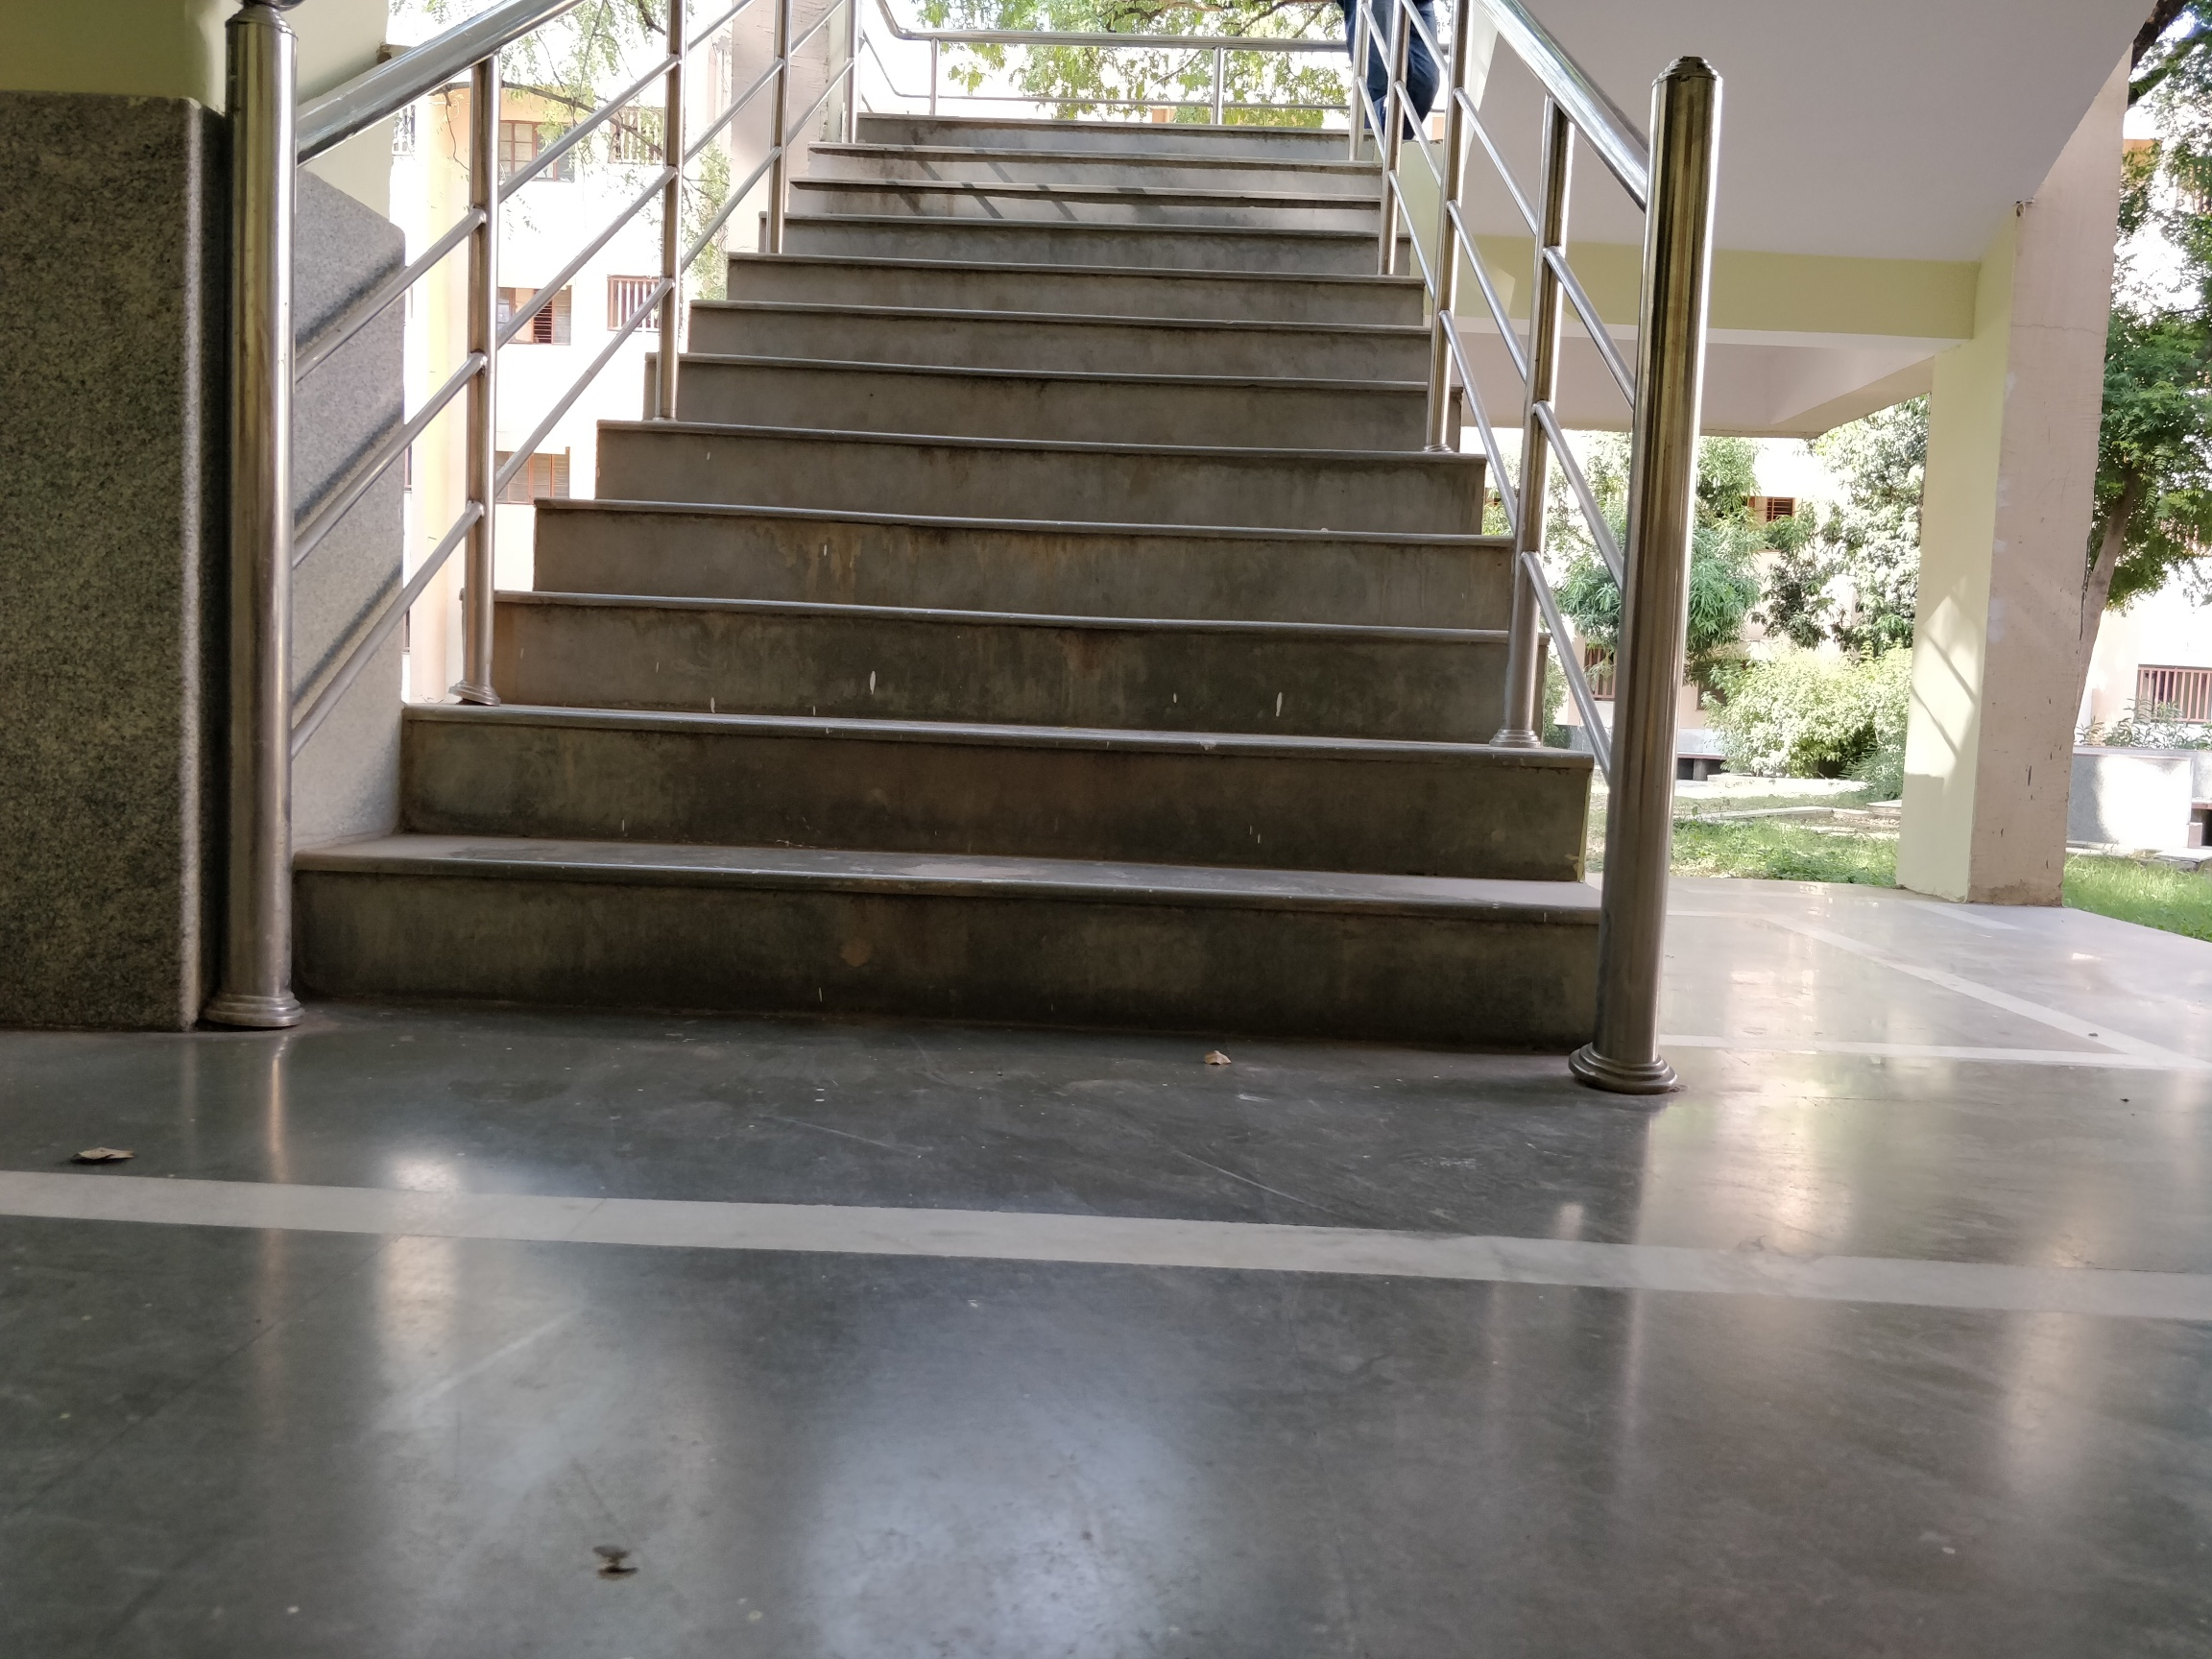stairs_up: (402, 77, 1550, 1107)
